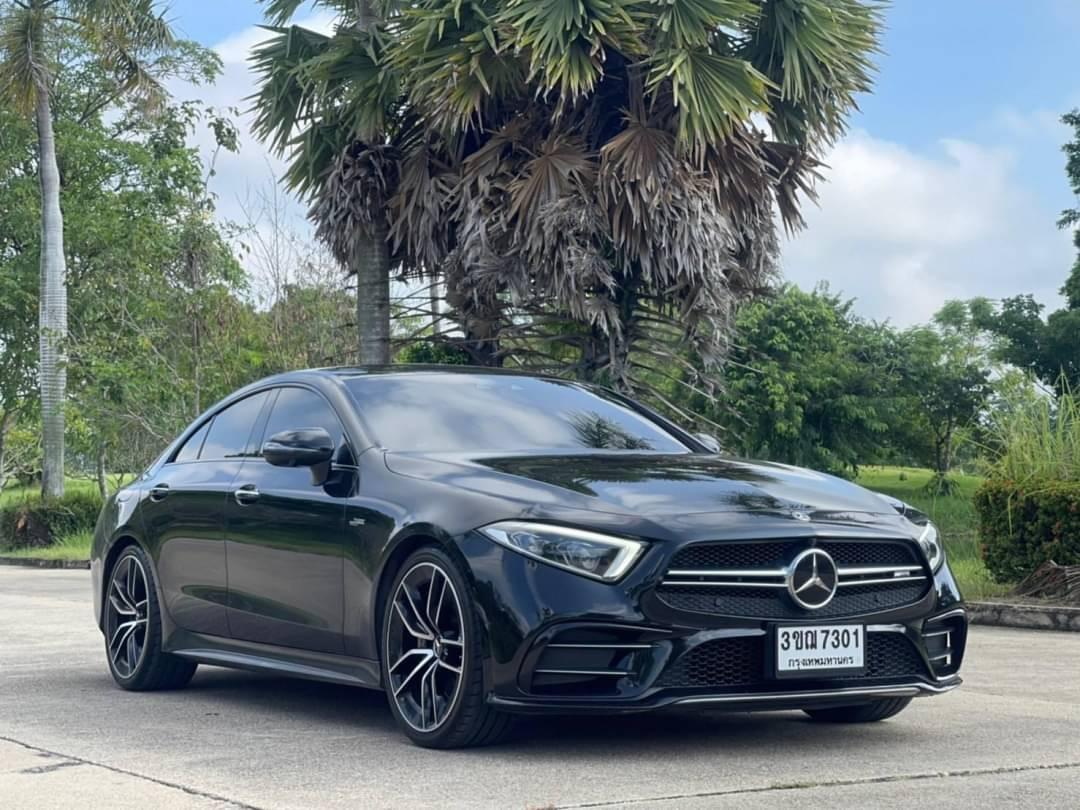license-plate: (774, 619, 869, 674)
